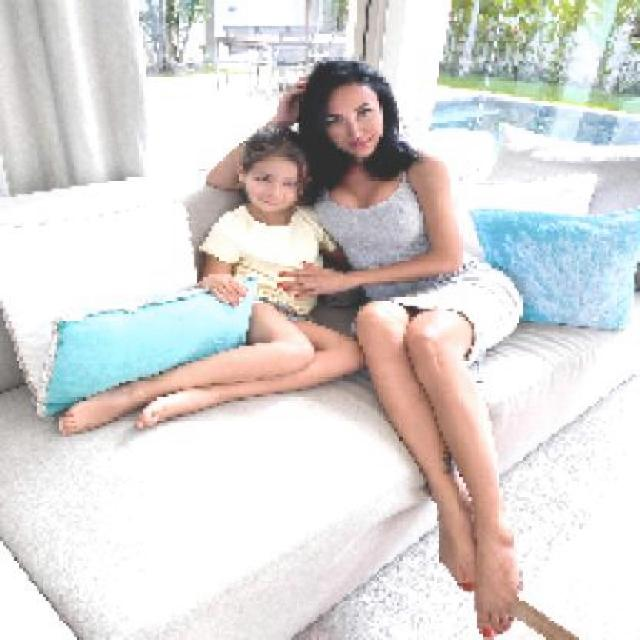child: (59, 125, 358, 438)
